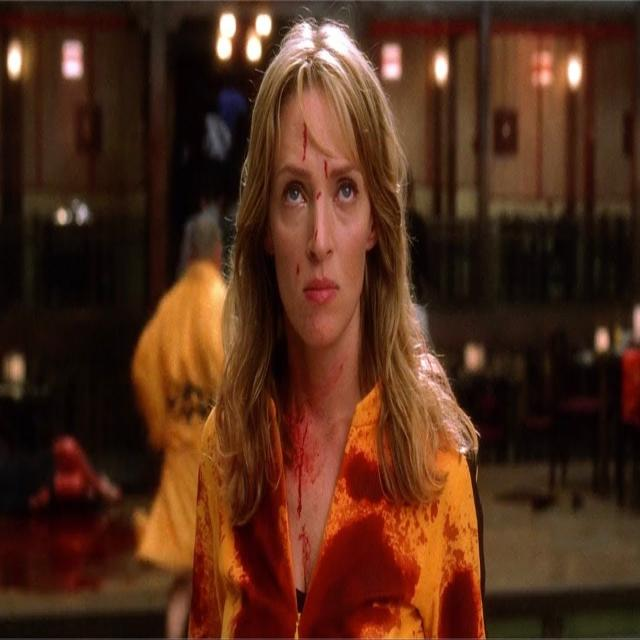human: (187, 14, 490, 640)
